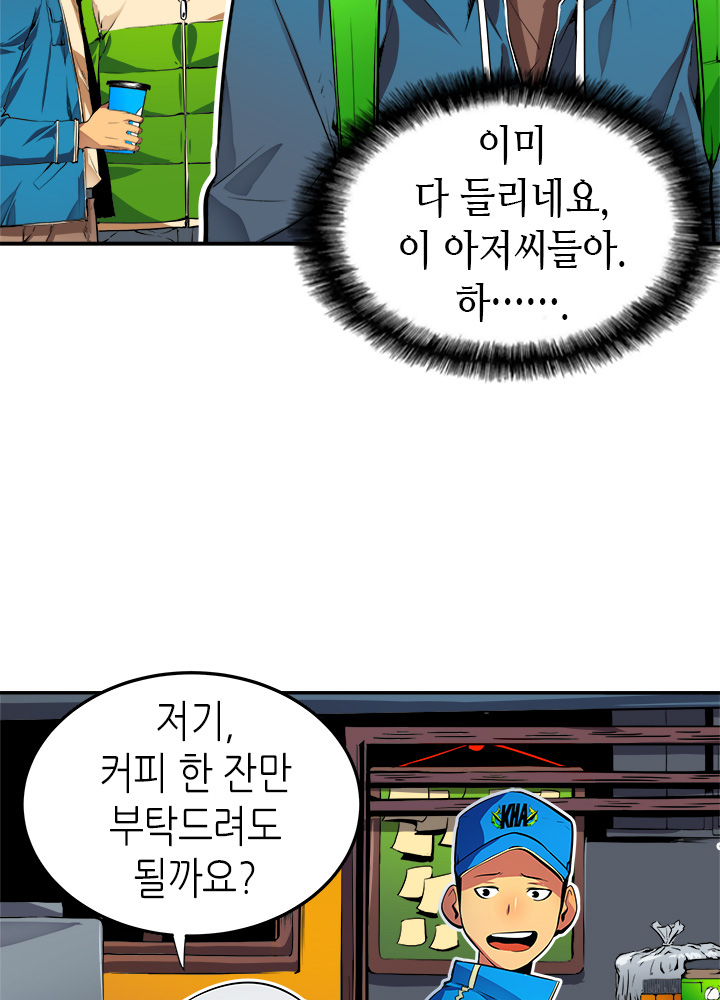dialog box: (273, 41, 720, 406), (8, 654, 387, 991)
text: (376, 99, 646, 349), (73, 682, 316, 930)
